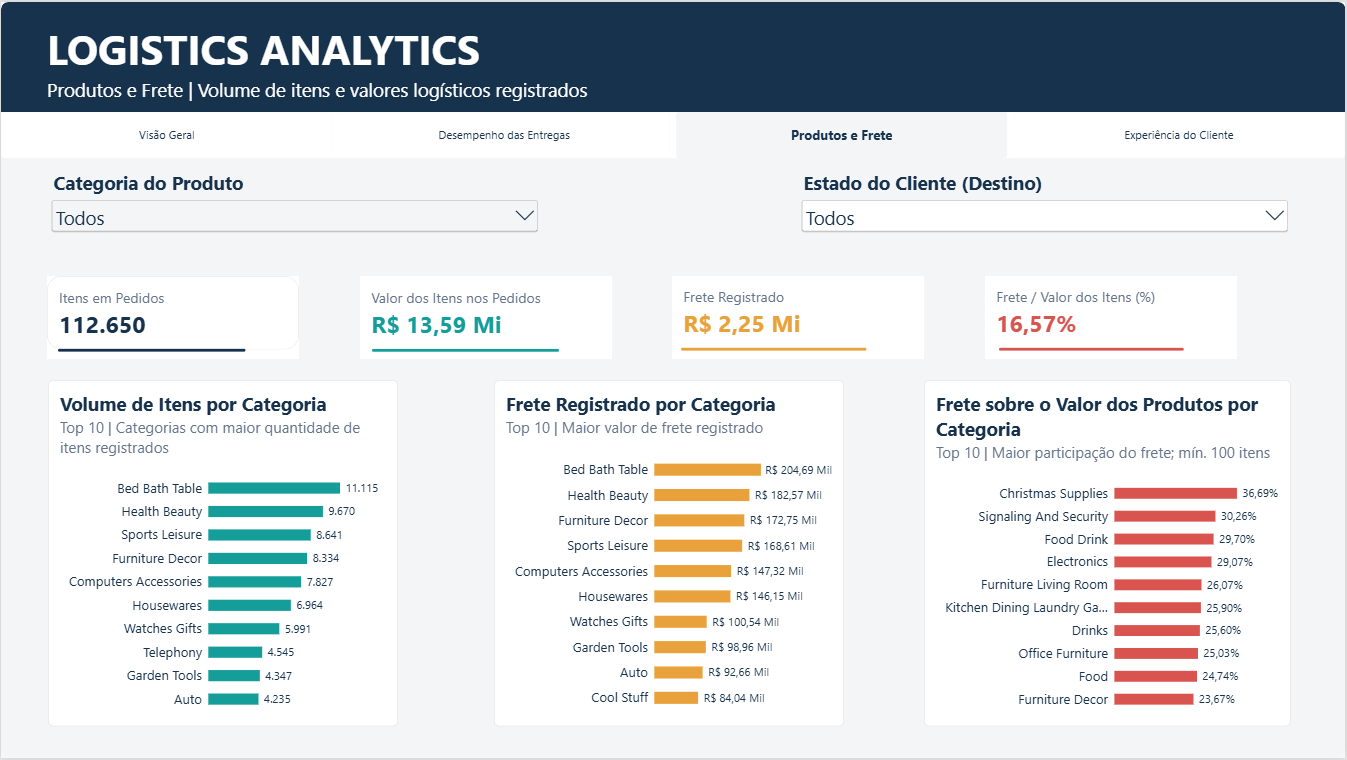

The dashboard page shown, as its layout file describes it:
{"tool":"powerbi","page":{"name":"Produtos e Frete","canvas":[1920,1080],"ordinal":2},"visuals":[{"type":"shape","box":[0,0,1920,1079.6],"z":0},{"type":"cardVisual","title":"sadada","fields":{"Data":["fact_order_item.Itens Vendidos"]},"box":[66.2,391.5,360.5,105.7],"z":0,"group":"g1"},{"type":"cardVisual","title":"sadada","fields":{"Data":["fact_order_item.Valor dos Produtos"]},"box":[512.5,391.5,360.2,106.6],"z":0,"group":"g2"},{"type":"cardVisual","title":"sadada","fields":{"Data":["fact_order_item.Frete Total"]},"box":[958.7,391.5,360.2,105.2],"z":0,"group":"g3"},{"type":"cardVisual","title":"sadada","fields":{"Data":["fact_order_item.Frete sobre Valor dos Produtos (%)"]},"box":[1405,391.5,358.5,105.3],"z":0,"group":"g4"},{"type":"shape","box":[0,0,1920.6,191.5],"z":1000},{"type":"shape","box":[972.3,483.6,265.2,26.3],"z":1000,"group":"g3"},{"type":"shape","box":[1424.5,483.6,264,26.3],"z":1000,"group":"g4"},{"type":"shape","box":[529.8,483.8,267.5,26.6],"z":1000,"group":"g2"},{"type":"shape","box":[81.5,484.4,267.7,26.4],"z":1000,"group":"g1"},{"type":"shape","box":[0,156.9,1920.6,66.5],"z":2000},{"type":"textbox","box":[66,27.1,631,81.2],"z":3000},{"type":"textbox","box":[66.3,107.6,775.1,39.8],"z":4000},{"type":"slicer","fields":{"Values":["dim_product.product_category_label"]},"box":[66.7,239.9,705,123.3],"z":6000},{"type":"slicer","fields":{"Values":["dim_customer.customer_state"]},"box":[1138.3,240,705,123],"z":7000},{"type":"group","id":"g1","title":"Grupo 1","box":[66.2,391.5,360,118.4],"z":8000},{"type":"group","id":"g2","title":"Grupo 2","box":[512.5,391.5,360,118.4],"z":9000},{"type":"group","id":"g3","title":"Grupo 3","box":[958.7,391.5,360,118.4],"z":10000},{"type":"group","id":"g4","title":"Grupo 4","box":[1405,391.5,360,118.3],"z":11000},{"type":"barChart","title":"Volume de Itens por Categoria","fields":{"Category":["dim_product.product_category_label"],"Y":["fact_order_item.Itens Vendidos"]},"box":[66.7,540,500,495],"z":12000},{"type":"barChart","title":"Frete Registrado por Categoria","fields":{"Category":["dim_product.product_category_label"],"Y":["fact_order_item.Frete Total"]},"box":[705,540,500,495],"z":13000},{"type":"barChart","title":"Frete sobre o Valor dos Produtos por Categoria","fields":{"Category":["dim_product.product_category_label"],"Y":["fact_order_item.Frete sobre Produtos (%) (Min 100 Itens)"]},"box":[1318.9,539.8,523.8,494.6],"z":14000},{"type":"pageNavigator","box":[0,156.9,1920.6,66.5],"z":14001}]}

Visuals, with their boxes in screenshot pixels (x1, y1, x2, y2), scaled from the page's 1920x1080 canvas onto the 1347x760 screenshot:
shape: locate(0, 0, 1346, 759)
"sadada" cardVisual: locate(46, 276, 299, 350)
"sadada" cardVisual: locate(360, 276, 612, 351)
"sadada" cardVisual: locate(673, 276, 925, 350)
"sadada" cardVisual: locate(986, 276, 1237, 350)
shape: locate(0, 0, 1346, 135)
shape: locate(682, 340, 868, 359)
shape: locate(999, 340, 1185, 359)
shape: locate(372, 340, 559, 359)
shape: locate(57, 341, 245, 359)
shape: locate(0, 110, 1346, 157)
textbox: locate(46, 19, 489, 76)
textbox: locate(47, 76, 590, 104)
slicer - dim_product.product_category_label: locate(47, 169, 541, 256)
slicer - dim_customer.customer_state: locate(799, 169, 1293, 255)
"Grupo 1" group: locate(46, 276, 299, 359)
"Grupo 2" group: locate(360, 276, 612, 359)
"Grupo 3" group: locate(673, 276, 925, 359)
"Grupo 4" group: locate(986, 276, 1238, 359)
"Volume de Itens por Categoria" barChart: locate(47, 380, 398, 728)
"Frete Registrado por Categoria" barChart: locate(495, 380, 845, 728)
"Frete sobre o Valor dos Produtos por Categoria" barChart: locate(925, 380, 1293, 728)
pageNavigator: locate(0, 110, 1346, 157)
